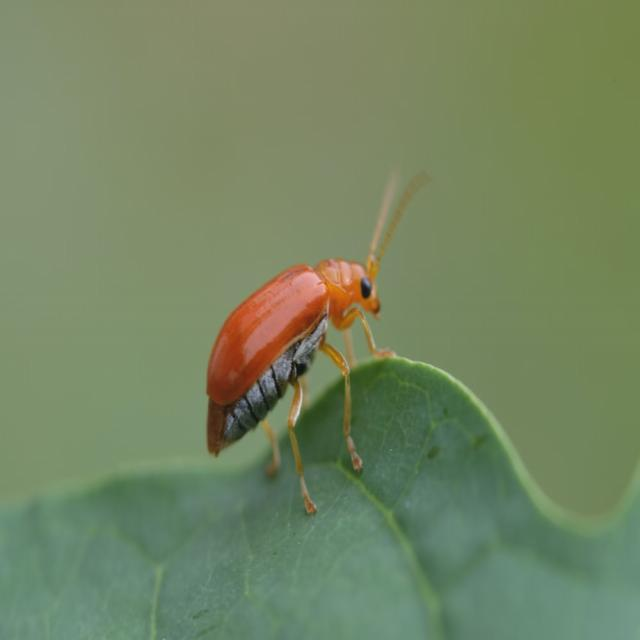Pumpkin Beetle: (198, 141, 437, 529)
